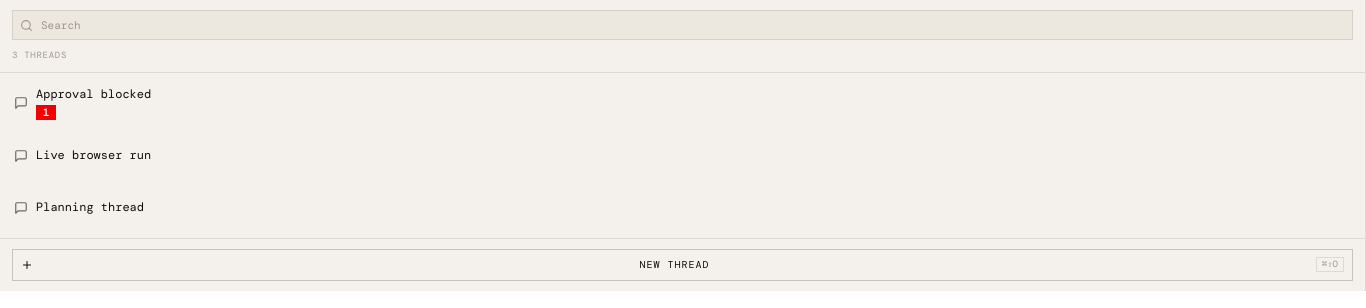
Test case: AgentSessionRail › keeps the session rail focused on search without operational filter tabs
The width and height of the screenshot is (1366, 308).
Type "approval" into the search field named "Search threads". click: (680, 25)
box: [41,18,1320,32]
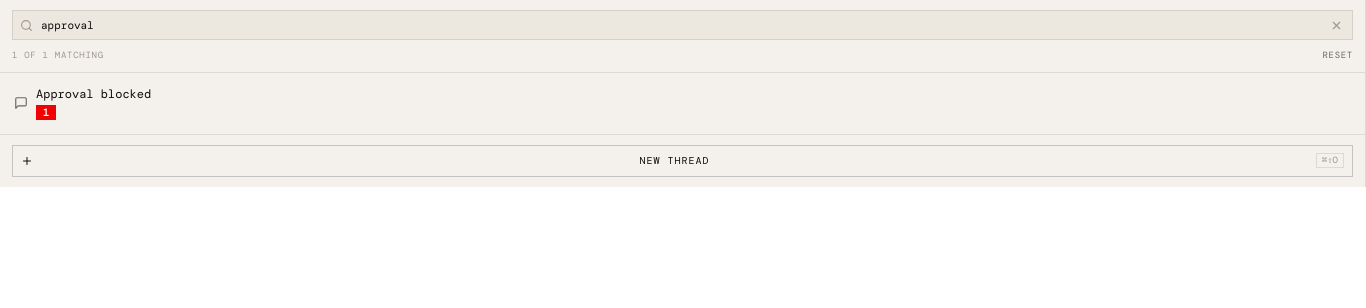
Expected: the text "1 of 1 matching" is shown, [12,50,104,60]
Expected: the button "Planning thread" is gone
Expected: the number of elements with class "zaki-thread-item" is 1, [0,79,1365,128]
Click the button "Reset". click: (1338, 55)
box: [1322,50,1353,60]
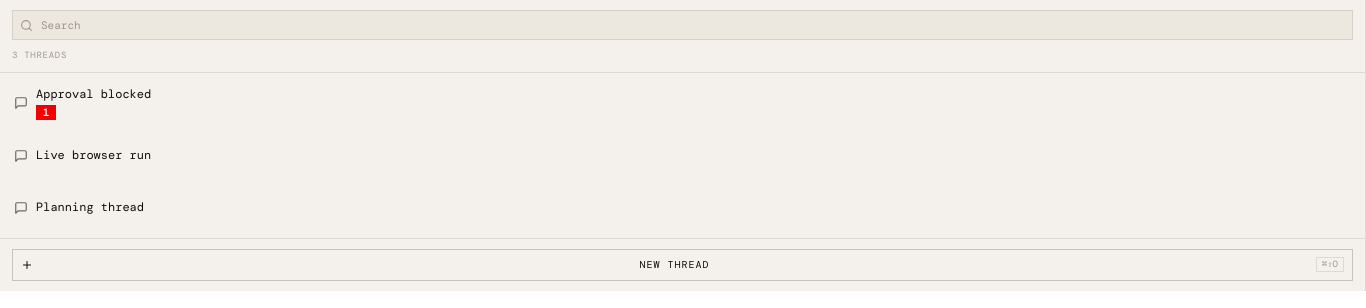
Expected: the text "Approval blocked" is shown, [36,86,151,102]
Expected: the text "Planning thread" is shown, [36,199,144,215]
Expected: the text "Live browser run" is shown, [36,147,151,163]
